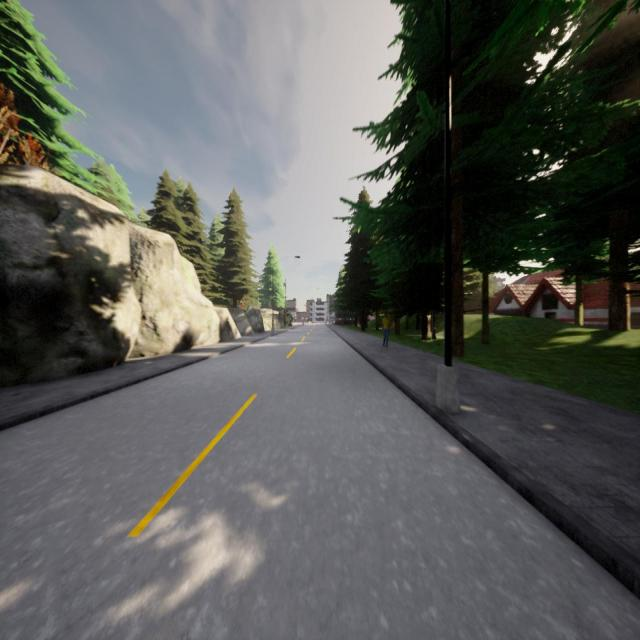Pedestrian: (382, 312, 390, 347)
